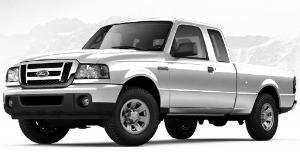car: (1, 18, 300, 147)
